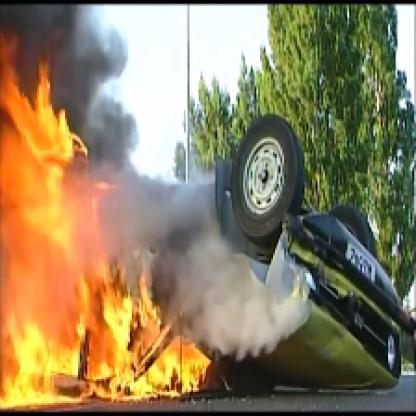Fire: (2, 46, 223, 408)
